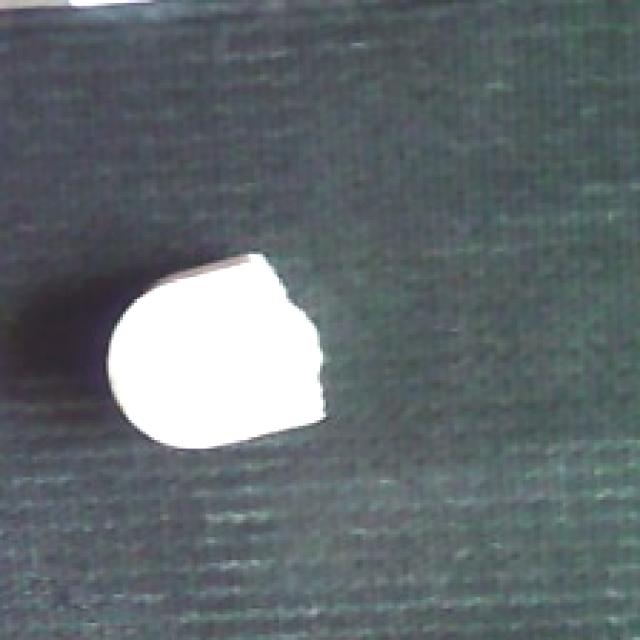defected: (97, 249, 332, 460)
